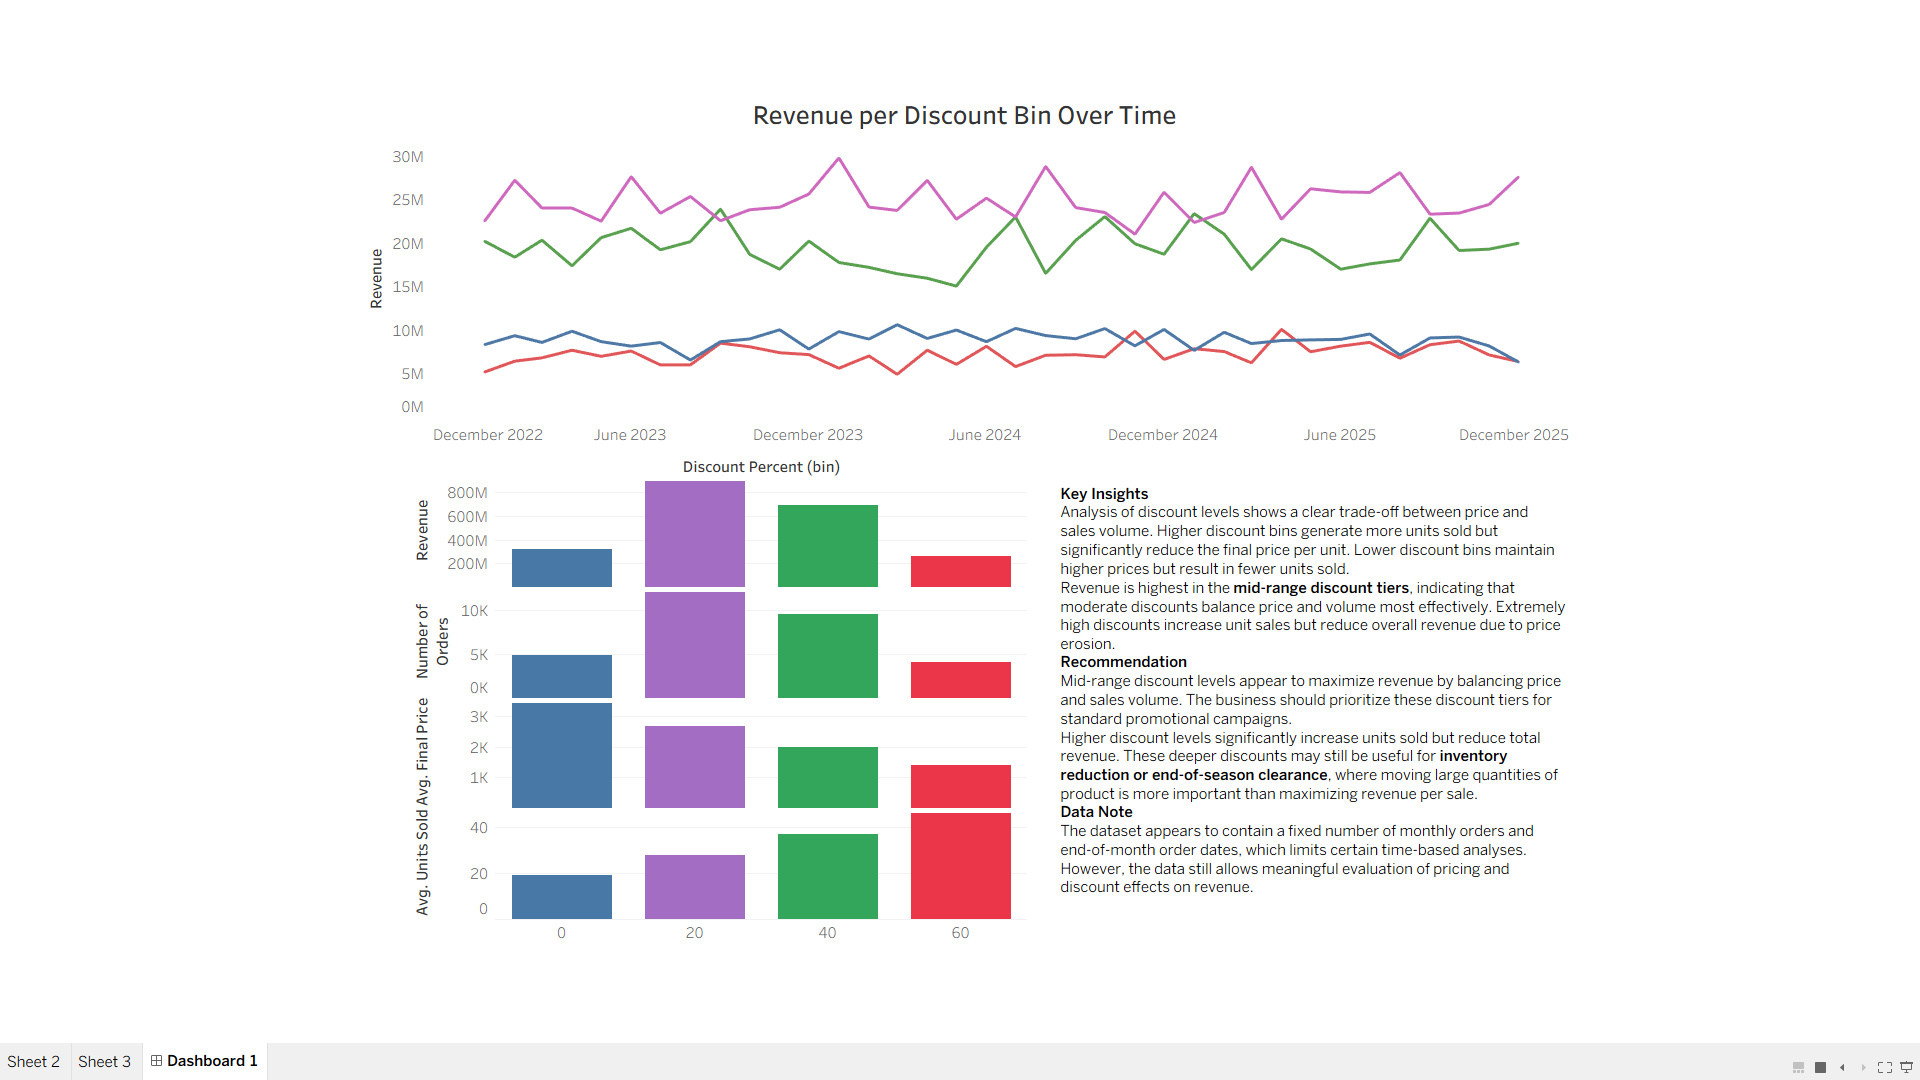

What the dashboard file says about the page in this screenshot:
{"tool":"tableau","page":{"name":"Dashboard 1","canvas":[1000,1000],"units":"permille","ordinal":0},"visuals":[{"type":"worksheet","title":"Sheet 2","mark":"Automatic","rows":["revenue"],"cols":["order_date"],"box":[18.5,2.4,970.8,412]},{"type":"text","box":[577.6,408.4,409.6,581]},{"type":"worksheet","title":"Sheet 3","mark":"Automatic","rows":["revenue","order_id","final_price","units_sold"],"cols":["Discount Percent (bin)"],"box":[55.4,424.9,498.5,566.9]}]}

Visuals, with their boxes on the dashboard's canvas, which has no fixed pixel size, in thousandths of its width and height (x1, y1, x2, y2). These are canvas units, not pixel positions in the 1920x1080 screenshot, which may show the page scaled, cropped or inside an application window:
"Sheet 2" worksheet: BBox(18, 2, 989, 414)
text: BBox(578, 408, 987, 989)
"Sheet 3" worksheet: BBox(55, 425, 554, 992)
